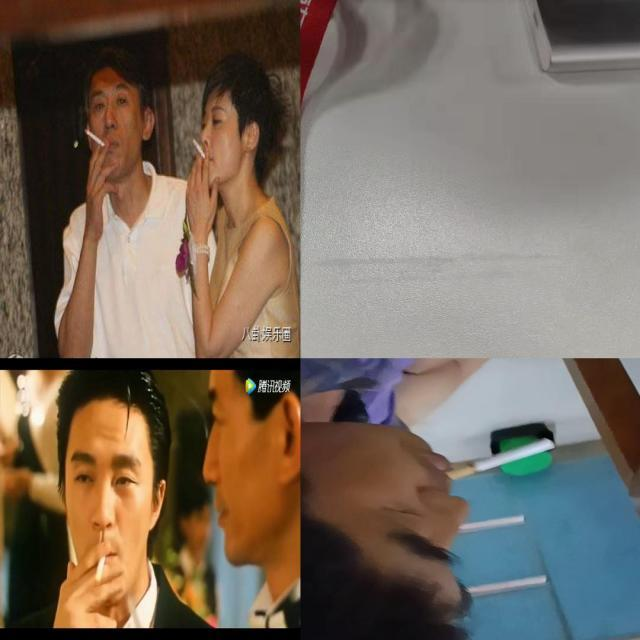cigarette: (446, 438, 556, 481), (84, 128, 106, 148), (192, 137, 206, 161), (95, 554, 106, 582)
